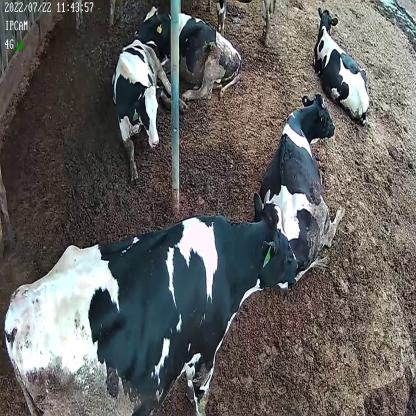cow: (3, 189, 298, 416), (258, 89, 344, 286), (112, 35, 186, 180), (138, 4, 242, 104), (311, 3, 371, 126)
